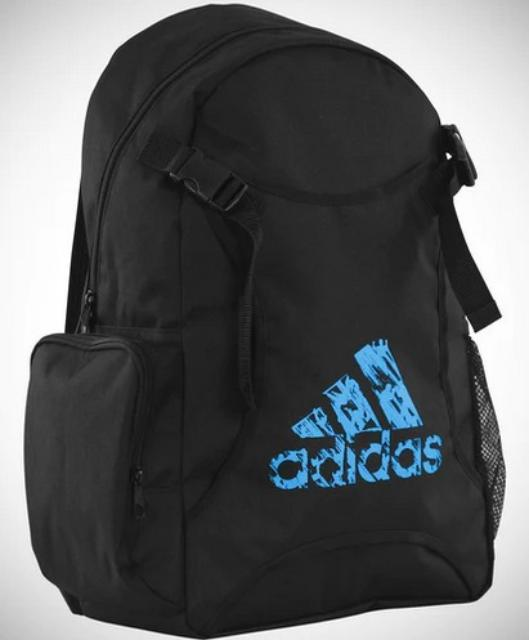Adidas: (261, 330, 450, 500), (276, 331, 435, 449), (264, 427, 449, 492)
